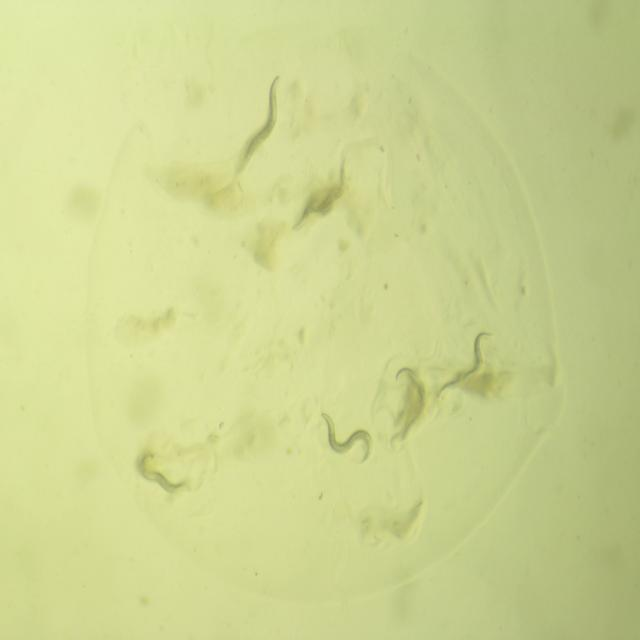worm: (228, 71, 286, 185), (432, 323, 501, 404), (289, 154, 352, 238), (392, 342, 430, 451), (133, 442, 193, 505), (318, 411, 378, 470)
